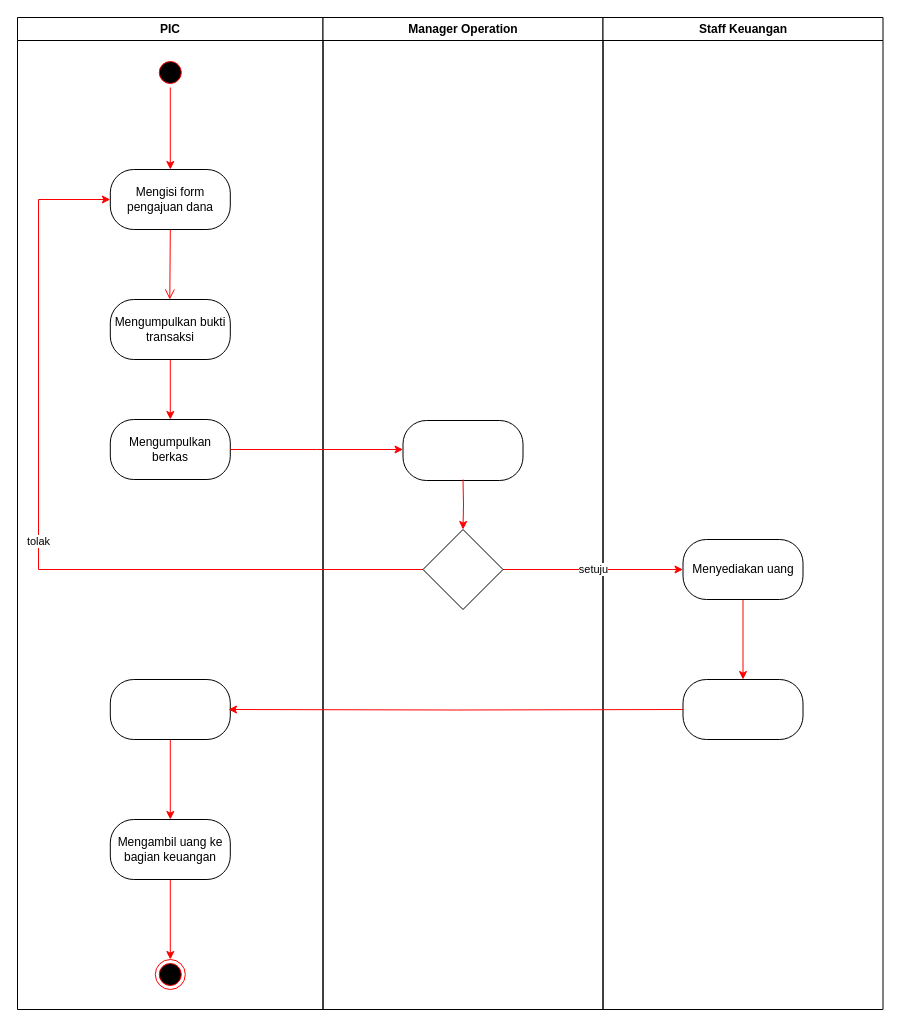
Image size: 901x1027. Some labels were removed from this diagram. Here are the shapes that lost their labels. From the top down, the centre of each, then its label:
At (x=462, y=450): "Menerima form".
At (x=462, y=569): "Persetujuan".
At (x=169, y=709): "Menerima konfirmasi persetujuan".
At (x=742, y=709): "Konfirmasi persetujuan pengajuan".
